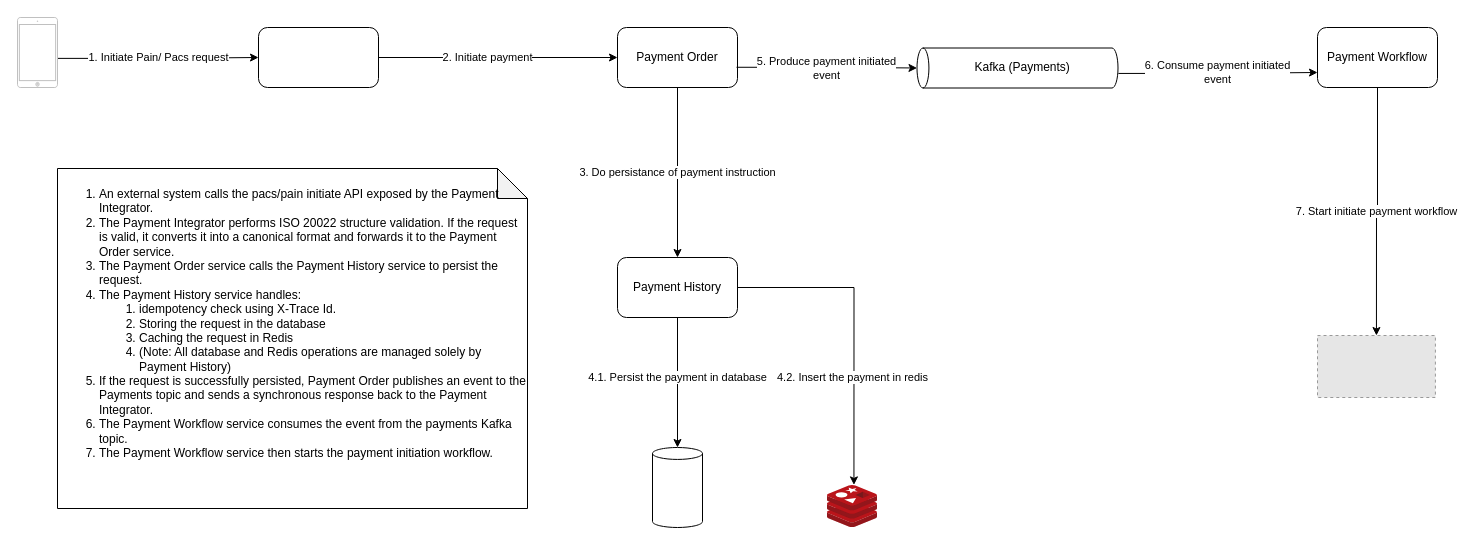
Image size: 1474x545. Some labels were removed from this diagram. Grey dashed boxes stand in for pictures. The box of each missing label's shape, as (x1, y1, x2, y2) in pixels:
DB: (652, 446, 702, 528)
Payment Integrator: (258, 26, 378, 88)
